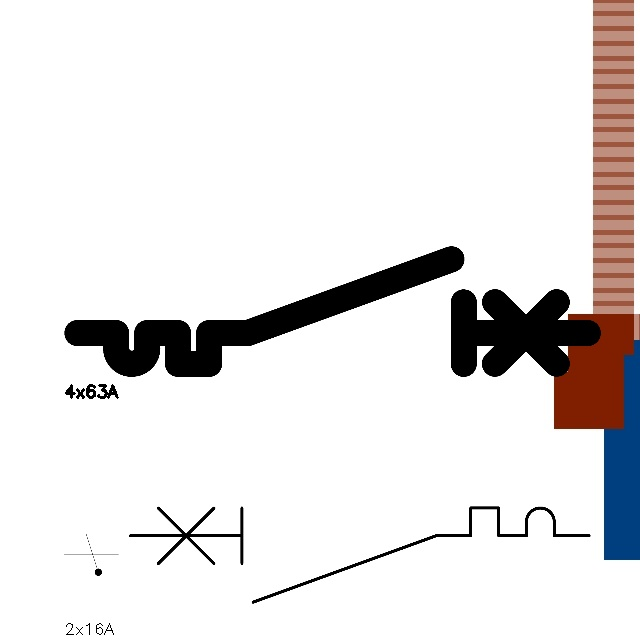interruptor_termomagnetico: (64, 246, 601, 377), (118, 496, 601, 614)
